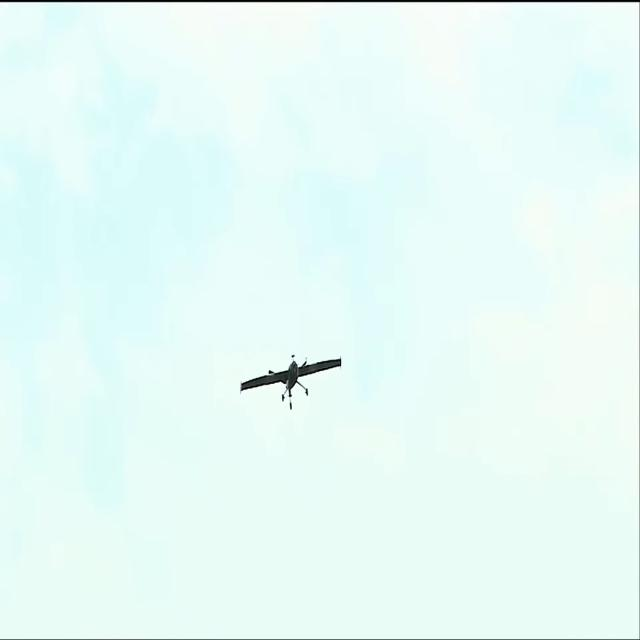iha: (271, 352, 310, 409)
